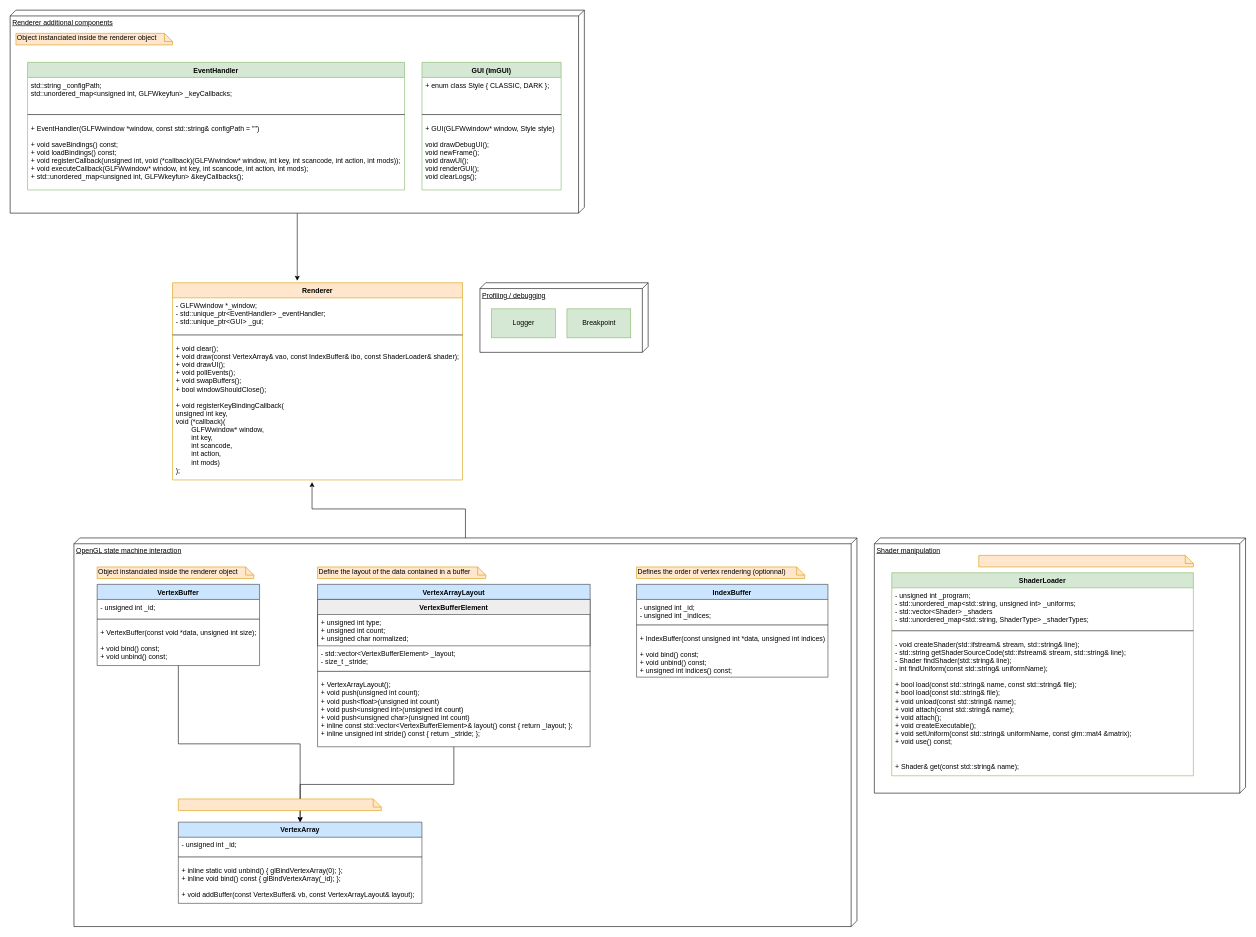
The diagram is 1256 pixels wide and 937 high, and some of its shapes have lost their labels. Each missing label, with the centre of its shape:
manages a set of shaders, can parse GLSL formated shader files: [1085,561]
Stores the layout information of a buffer to prevent redefining it: [279,804]
